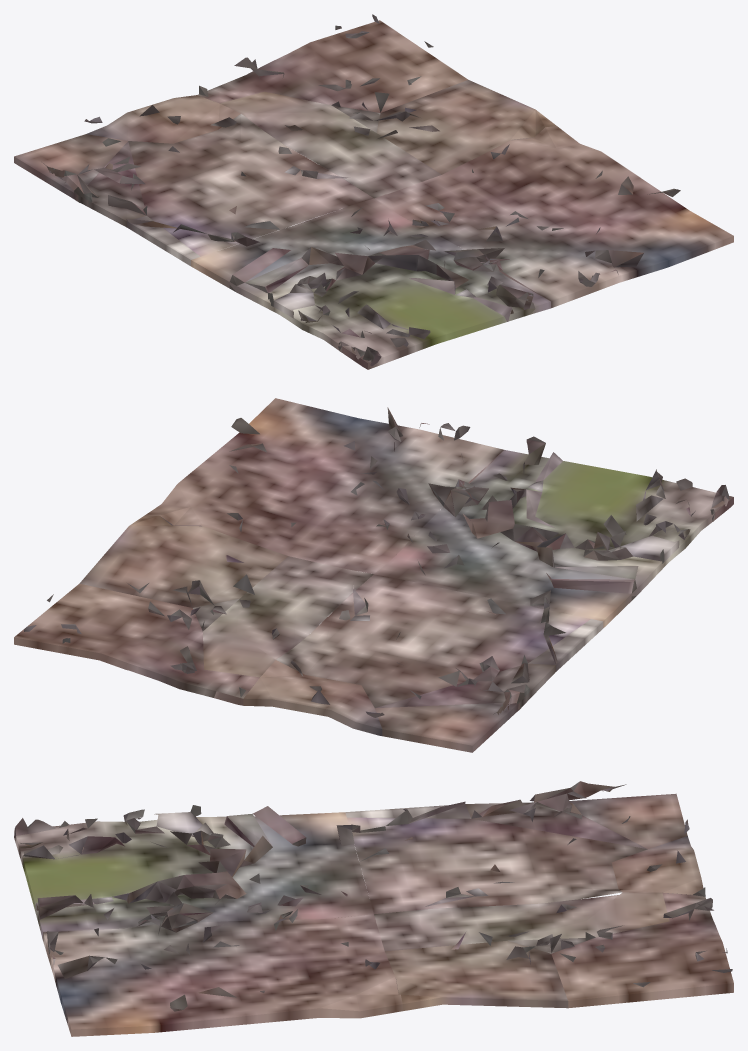
3 views of the same model, one above another, from view 1: azimuth 30°, elevation 25°; view 2: azimuth 150°, elevation 25°; view 3: azimuth 270°, elevation 25° (orthographic). The views are drawn at different scales.
Visible parts, largest first — view 1: Mesh_0; view 2: Mesh_0; view 3: Mesh_0.
Boxes of the visible parts, left/top/right/bottom form: Mesh_0: left=14, top=14, right=733, bottom=369; Mesh_0: left=14, top=398, right=733, bottom=752; Mesh_0: left=14, top=781, right=733, bottom=1036.
Bounding box in the file's own units: 532 × 47.14 × 659.
Materials: 1 (1 with a texture image).
